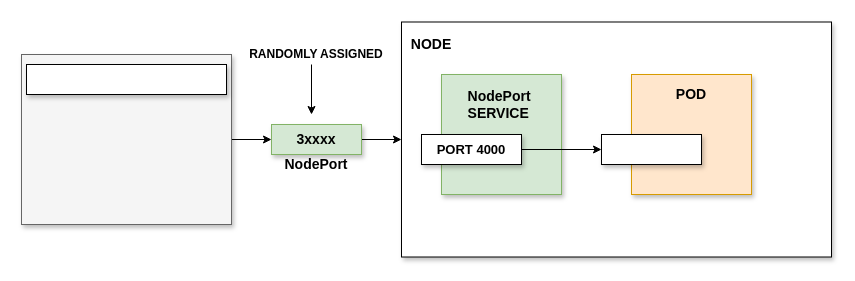
The diagram is 855 pixels wide and 281 high, and some of its shapes have lost their labels. Here are the shapes that lost their labels. From the top down, the centre of each, then its label:
point 127,81: localhost:3xxxx
point 652,151: TARGET PORT 4000
